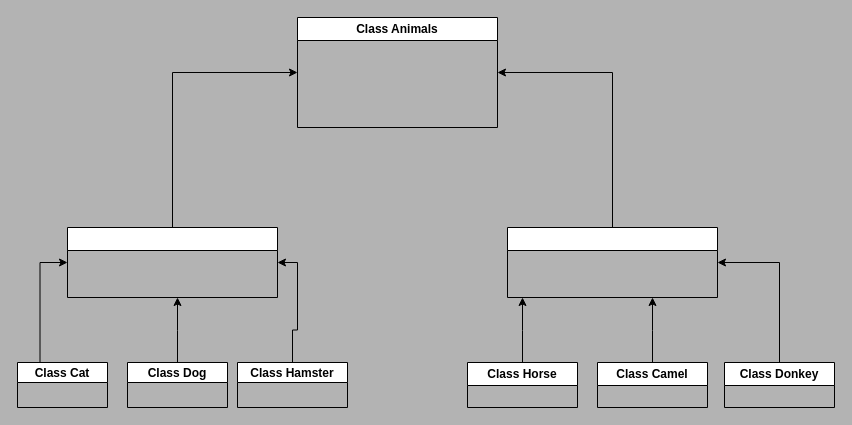
Some shapes in this 852 by 425 pixel diagram are drawn without their labels. The centre of each missing label's shape, as x and y in pixels:
Class Home_Animals: [172,262]
Class Packed_Animals: [612,262]
